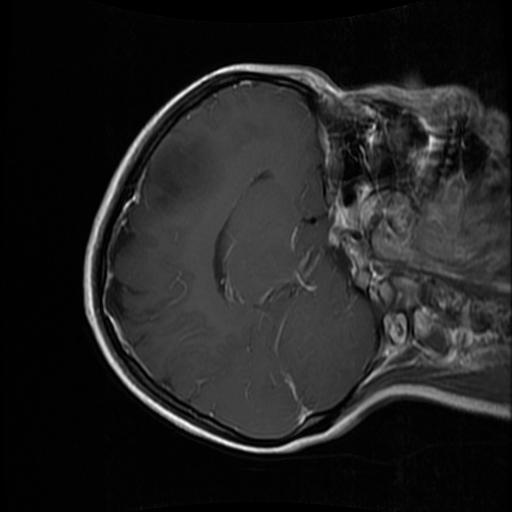glioma: (143, 131, 217, 215)
